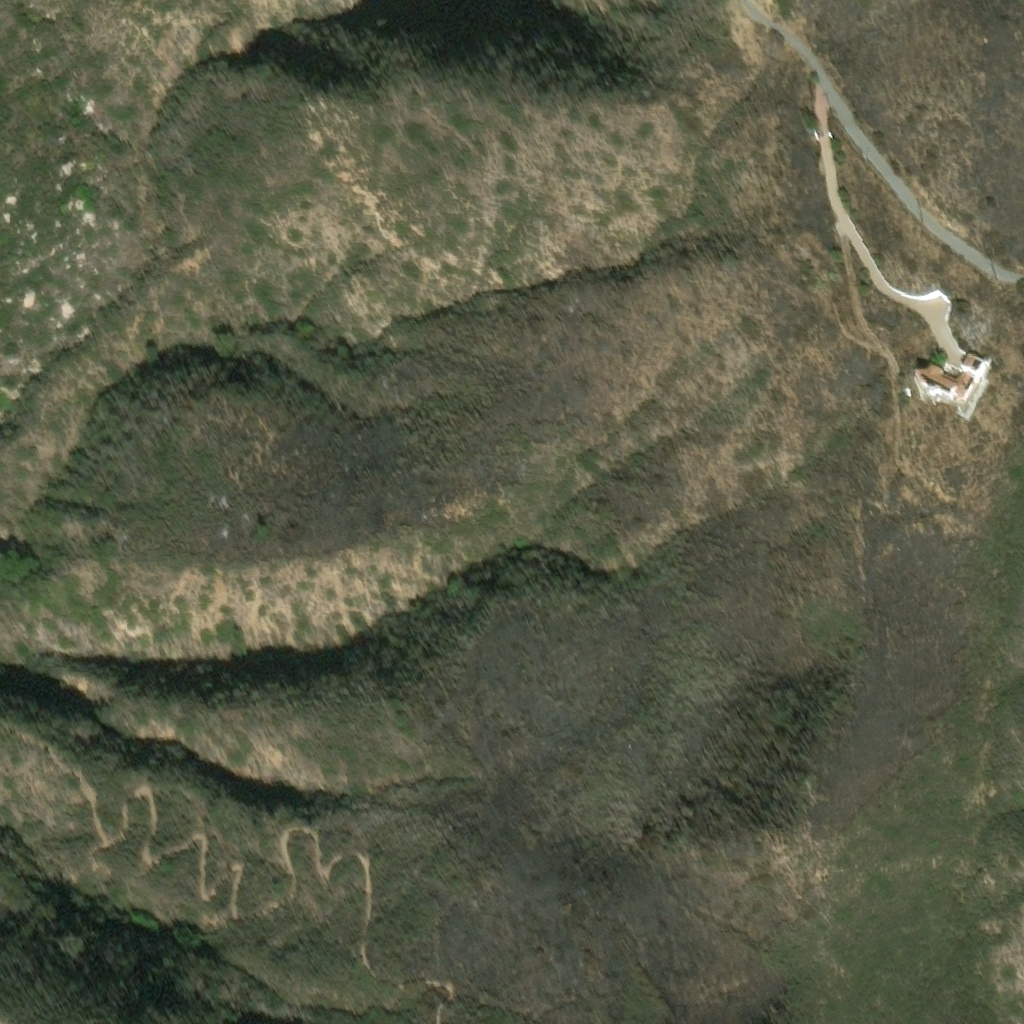0 no-damage: (919, 354, 986, 405)
